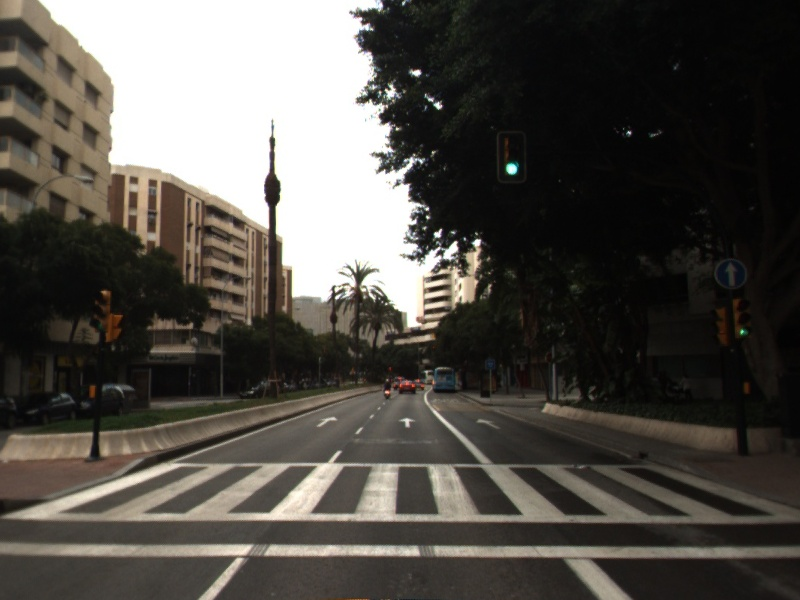STRAIGHT: (473, 416, 504, 431), (314, 414, 340, 429), (396, 415, 419, 430)
